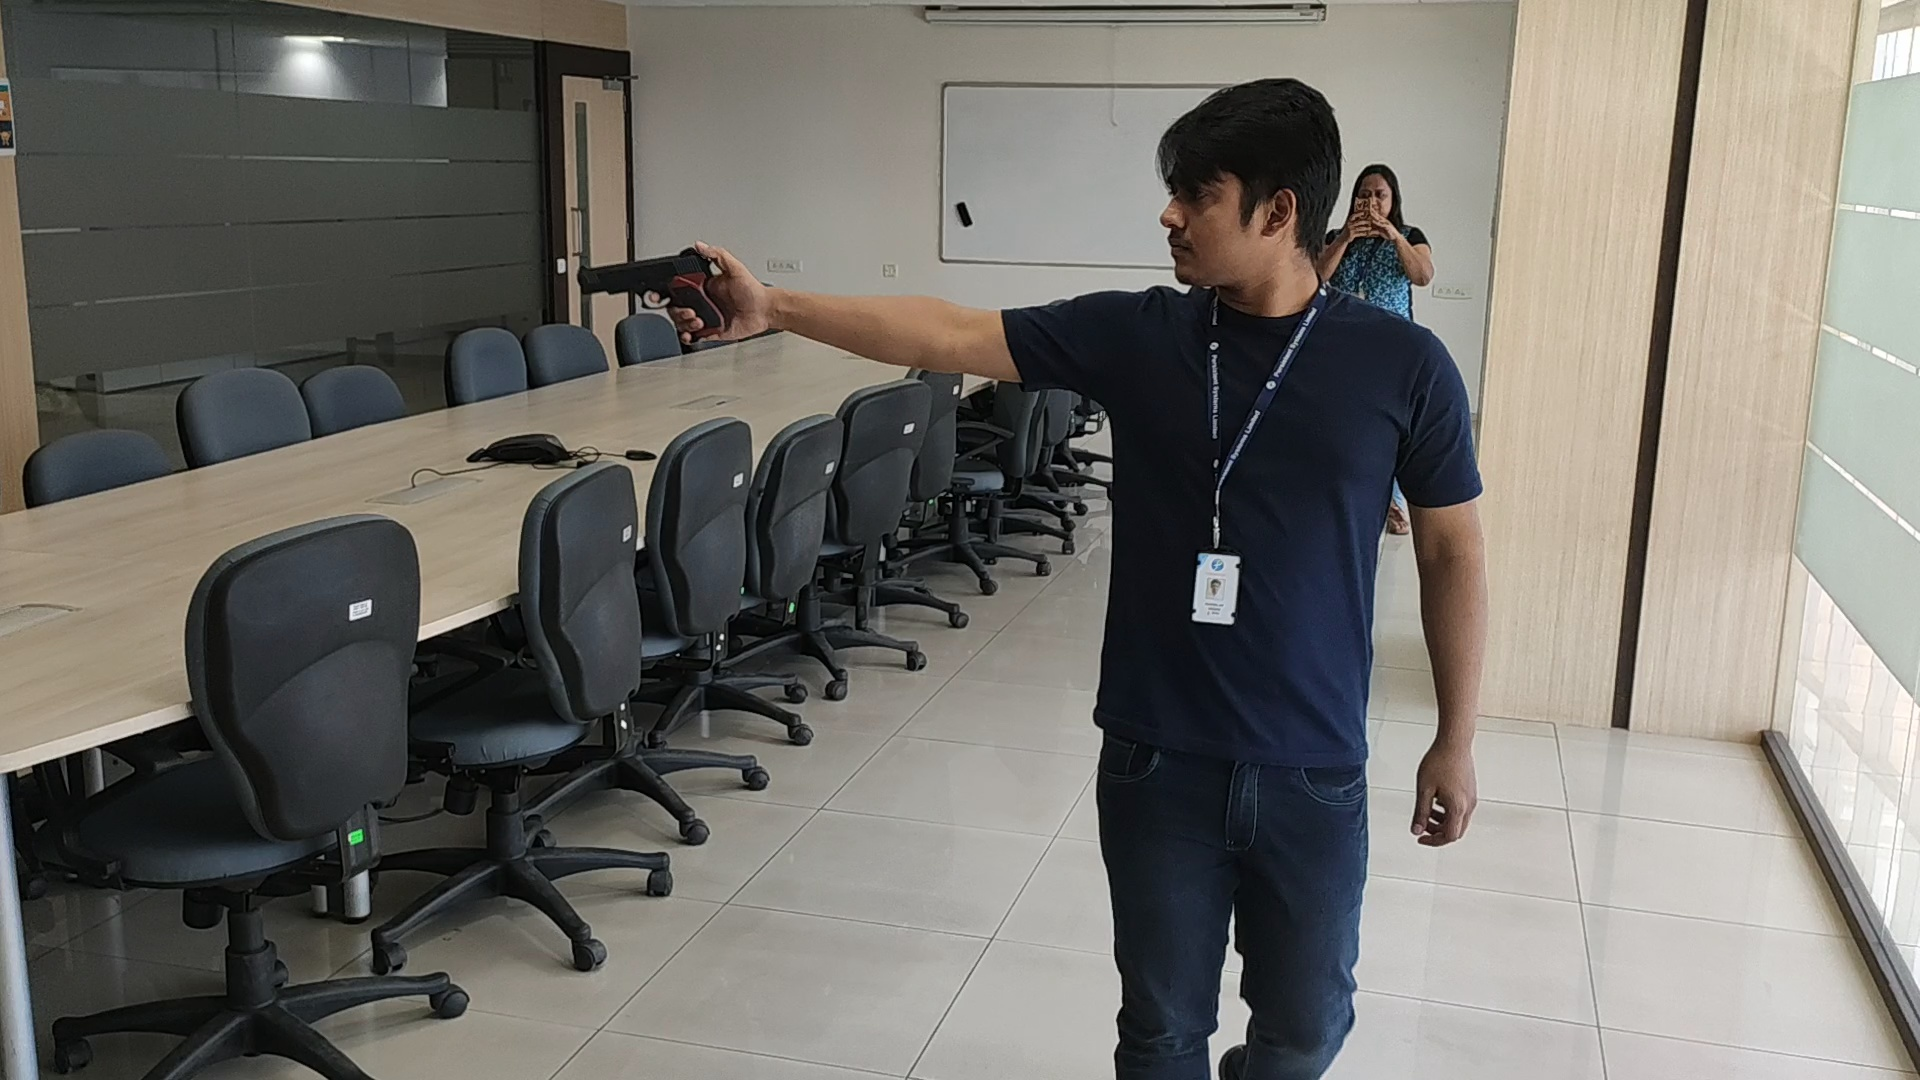gun: (574, 248, 724, 338)
